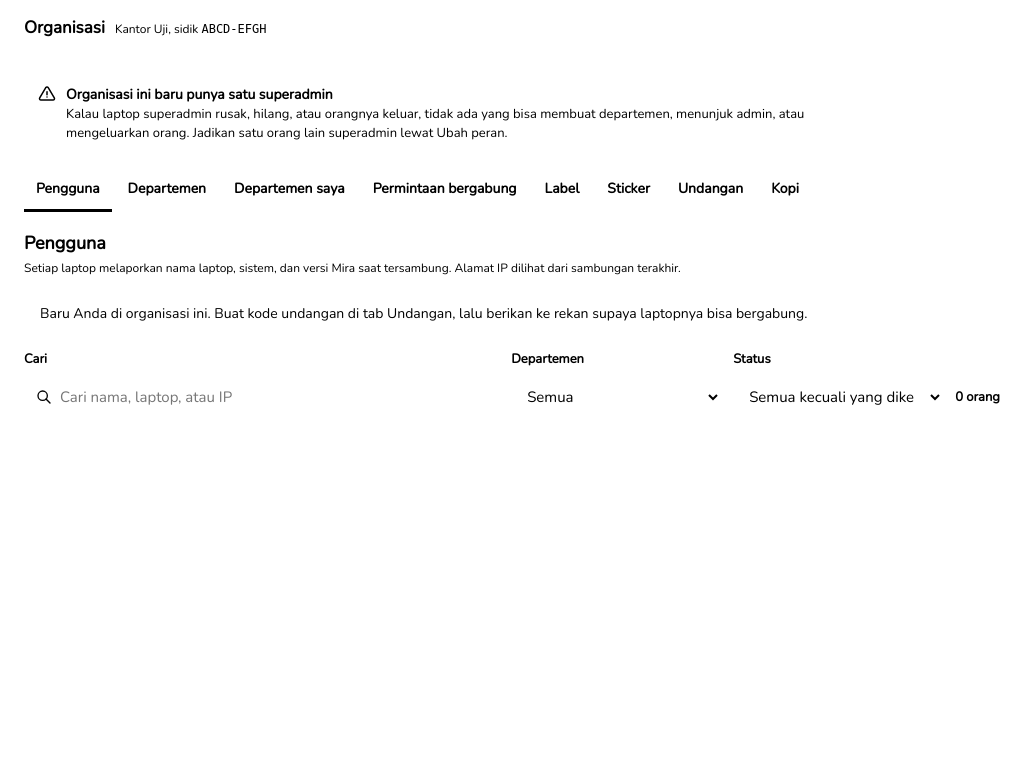
Test: Organisasi: peringatan superadmin tunggal › tampil untuk superadmin, dan tombolnya membuka tab Pengguna
The width and height of the screenshot is (1024, 768).
Expected: the text "Organisasi ini baru punya satu superadmin" is shown, [66,84,333,104]
Click the button "Departemen" at x=167, y=190, box [116,168,218,212]
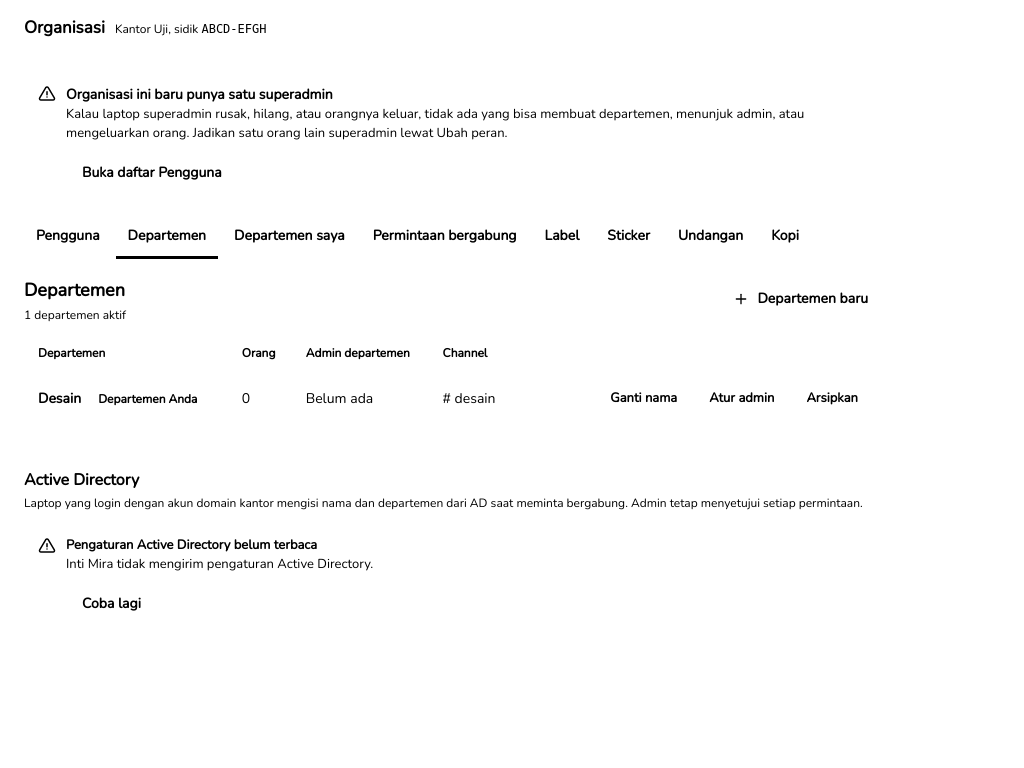
Expected: the button "Departemen" is marked as current, [116,214,218,258]
Click the button "Buka daftar Pengguna" at x=152, y=172, box [66,154,238,190]
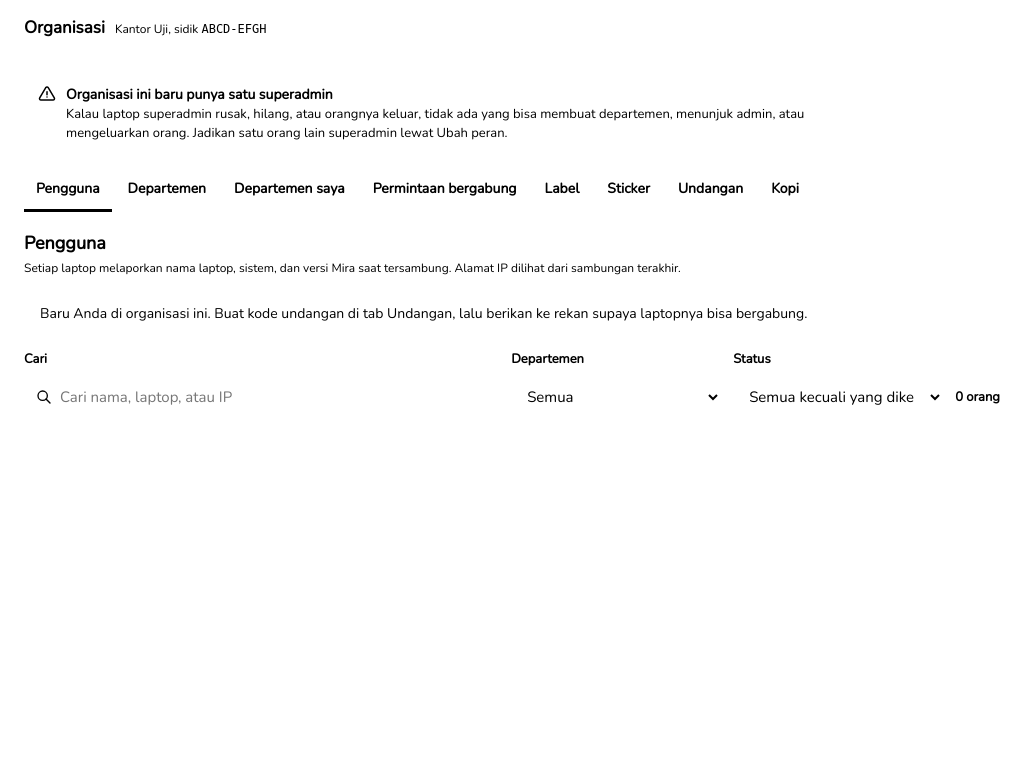
Expected: the text "Organisasi ini baru punya satu superadmin" is shown, [66,84,333,104]
Expected: the button "Buka daftar Pengguna" is gone
